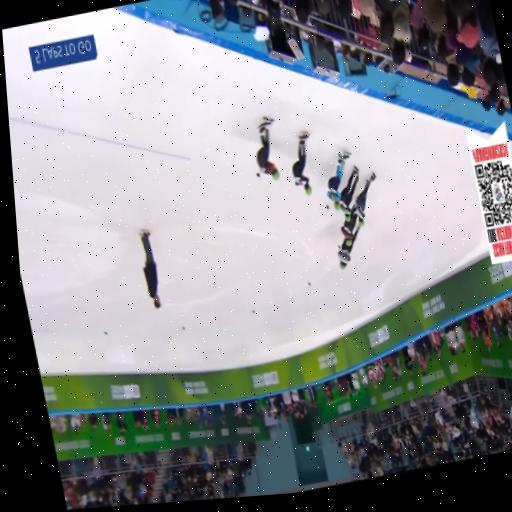Skater: (327, 151, 350, 209), (257, 119, 279, 179), (293, 132, 312, 193), (355, 172, 375, 225), (340, 166, 358, 220), (338, 228, 359, 268), (342, 204, 358, 244)
